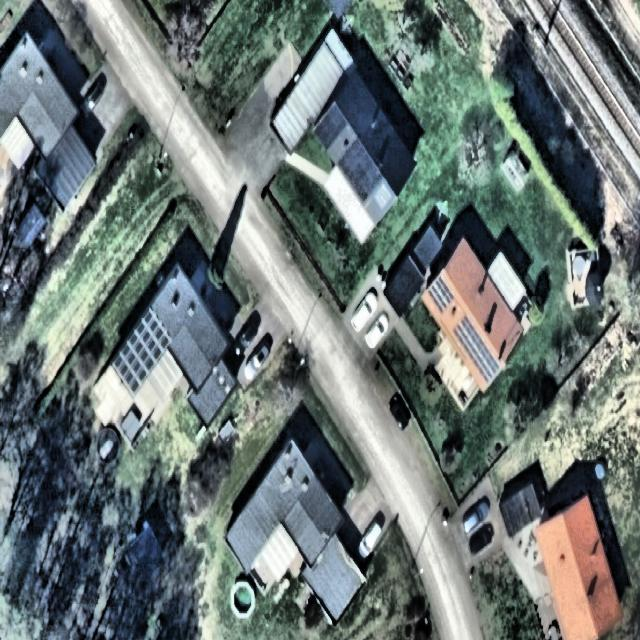roof_pv: (112, 307, 173, 393), (452, 313, 503, 385), (425, 275, 456, 313)
